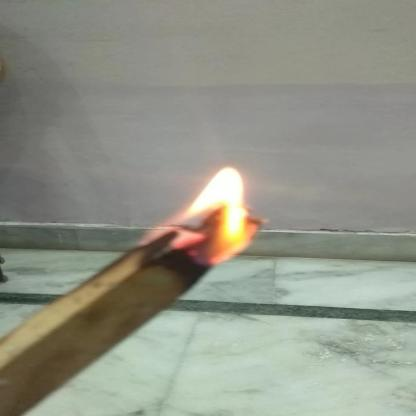fire: (149, 164, 268, 268)
